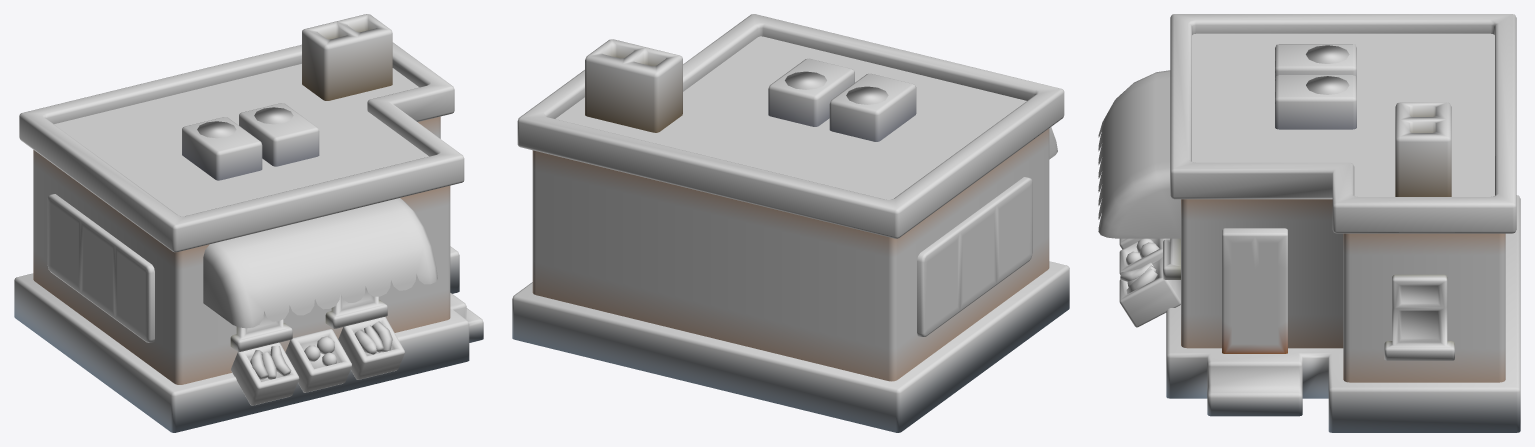
Rendered from Building_005.fbx.
3 views of the same model, side by side, from view 1: azimuth 30°, elevation 25°; view 2: azimuth 150°, elevation 25°; view 3: azimuth 270°, elevation 25° (orthographic). The views are drawn at different scales.
Parts seen in each view (by area): view 1: Building_005; view 2: Building_005; view 3: Building_005.
Part boxes in pixels (left/top/right/bottom): Building_005: left=14, top=14, right=483, bottom=432; Building_005: left=512, top=14, right=1069, bottom=432; Building_005: left=1098, top=14, right=1520, bottom=432.
Size of the model in its own units: 861 by 780 by 561.
